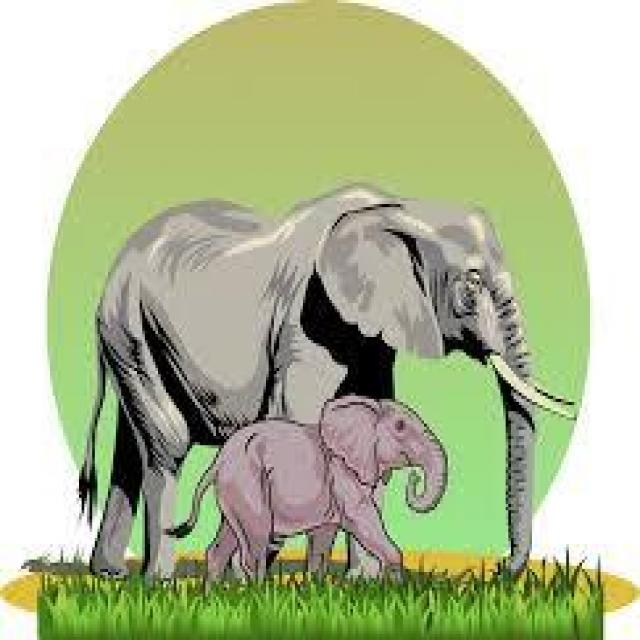Elephant: (90, 189, 530, 578), (203, 393, 445, 581)
